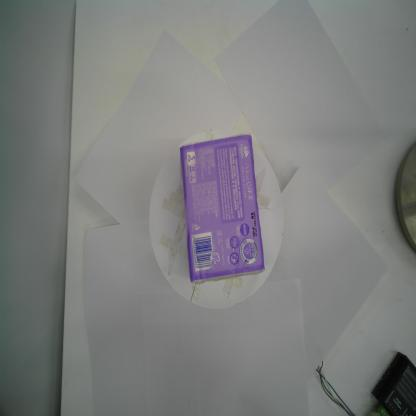Tissue: (178, 132, 267, 287)
